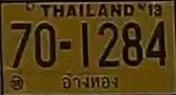0: (34, 22, 55, 66)
1: (82, 22, 88, 66)
2: (98, 22, 118, 66)
4: (146, 20, 165, 65)
7: (10, 22, 30, 67)
8: (122, 22, 142, 64)
ATG: (61, 71, 121, 92)
